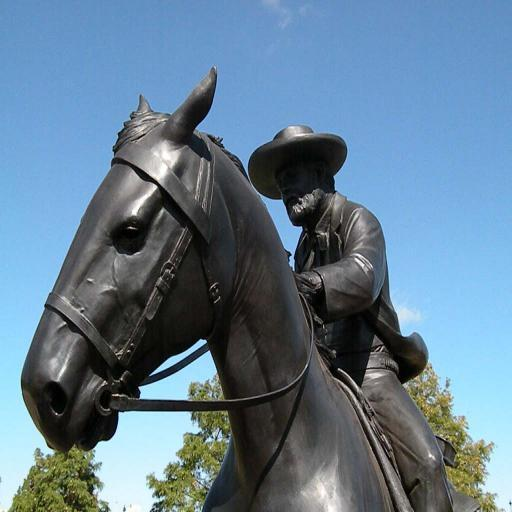Horse: (19, 66, 479, 512)
